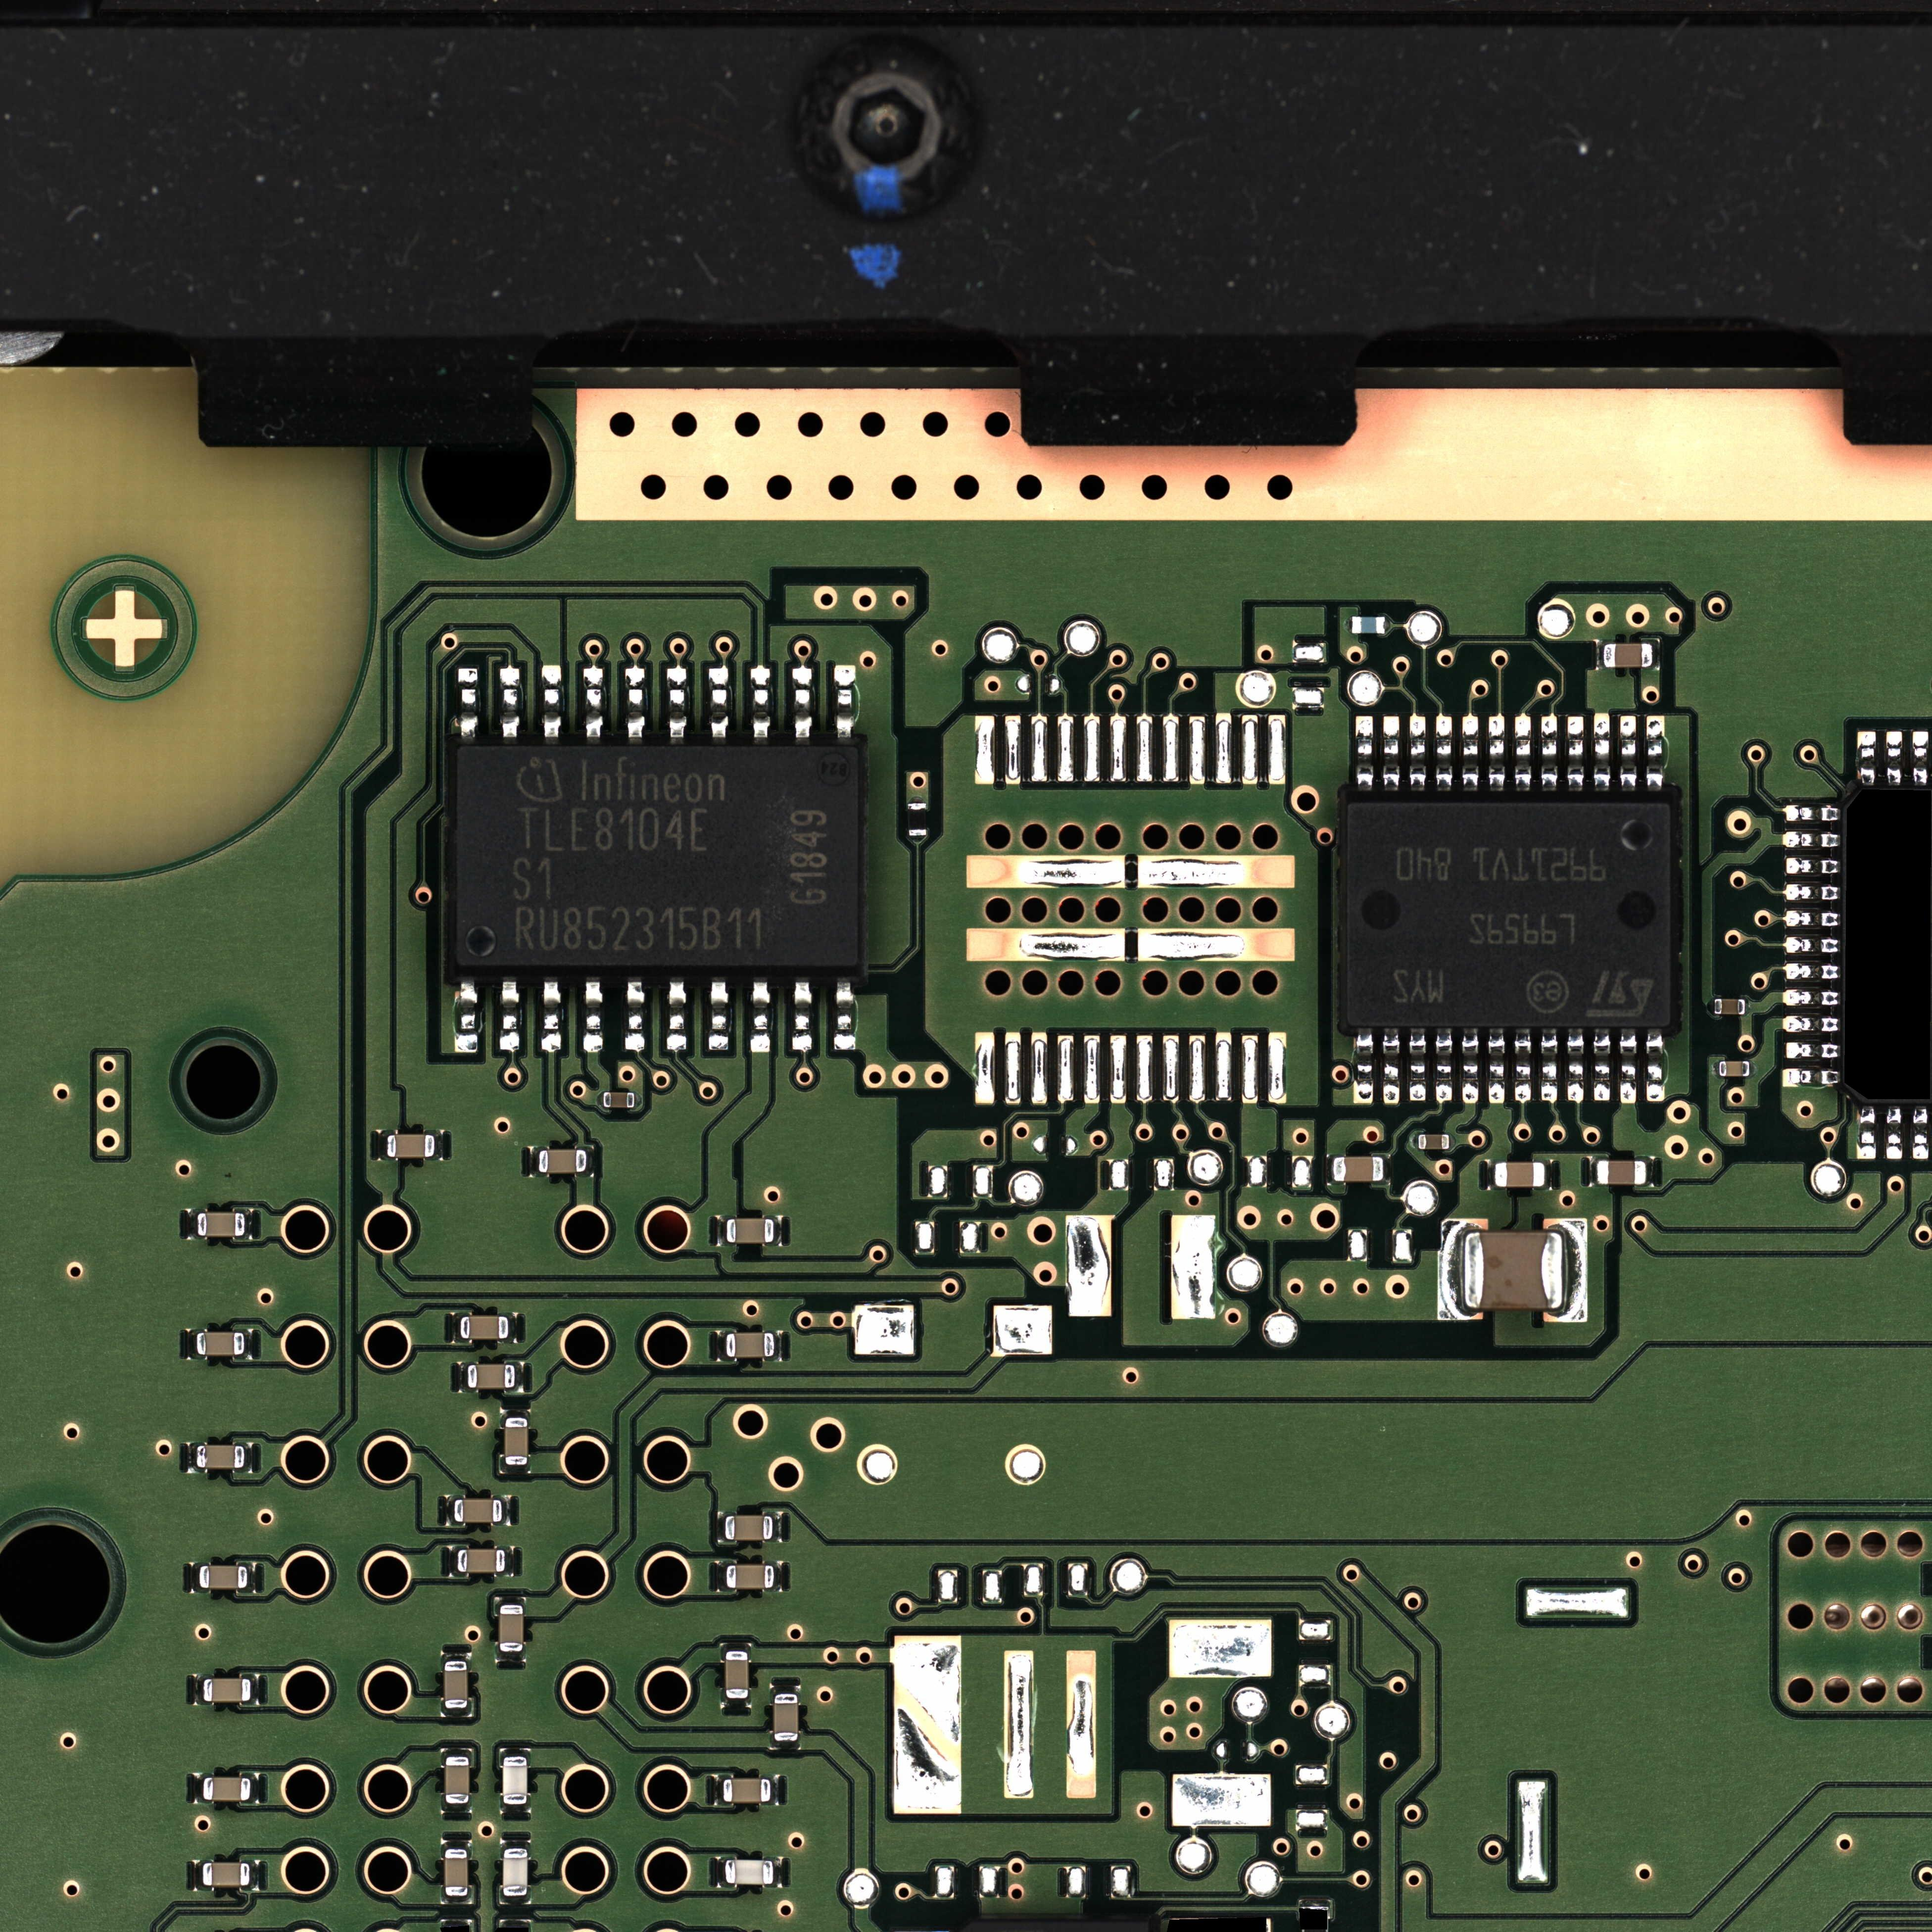Package: (455, 748, 860, 968), (1350, 801, 1670, 1026), (1463, 1231, 1564, 1309), (725, 1332, 775, 1359), (196, 1212, 246, 1237), (1334, 1157, 1384, 1182), (1495, 1162, 1545, 1187), (725, 1859, 773, 1884), (444, 1849, 469, 1897), (455, 1499, 502, 1523), (724, 1778, 771, 1803), (499, 1605, 524, 1652), (725, 1564, 773, 1589), (725, 1516, 773, 1541), (387, 1134, 435, 1159), (502, 1849, 527, 1897), (467, 1364, 515, 1389), (773, 1693, 798, 1741), (502, 1757, 527, 1805), (504, 1417, 529, 1465), (1598, 1161, 1645, 1185), (727, 1219, 773, 1244), (203, 1776, 249, 1801), (444, 1757, 469, 1803), (1603, 644, 1652, 667), (203, 1679, 251, 1702), (202, 1863, 249, 1886), (200, 1566, 248, 1589), (460, 1316, 508, 1339), (458, 1550, 506, 1573), (196, 1332, 244, 1355), (538, 1150, 586, 1173), (196, 1445, 244, 1468), (725, 1651, 748, 1698), (444, 1661, 467, 1707), (908, 803, 927, 837), (1352, 616, 1385, 633), (603, 1092, 633, 1108), (1714, 1000, 1744, 1016), (1419, 1134, 1449, 1150), (1720, 1062, 1750, 1076)
Solder: (1562, 1219, 1587, 1322), (1438, 1219, 1463, 1320), (455, 975, 478, 1053), (833, 975, 856, 1049), (835, 665, 856, 743), (791, 975, 812, 1051), (582, 977, 603, 1053), (750, 977, 771, 1053), (499, 667, 520, 741), (499, 977, 520, 1051), (625, 977, 646, 1051), (708, 977, 729, 1051), (752, 665, 771, 743), (667, 667, 686, 743), (584, 667, 603, 743), (541, 665, 561, 741), (541, 977, 561, 1053), (1353, 1028, 1373, 1104), (458, 669, 478, 743), (793, 667, 812, 741), (709, 667, 729, 741), (625, 667, 644, 741), (667, 978, 686, 1051), (1592, 713, 1610, 793), (1408, 713, 1426, 791), (1435, 713, 1453, 791), (1488, 713, 1506, 791), (1514, 713, 1532, 791), (1382, 715, 1399, 791), (1461, 715, 1479, 791), (1619, 715, 1637, 791), (1647, 715, 1665, 791), (1488, 1028, 1506, 1104), (1355, 717, 1373, 791), (1514, 1028, 1532, 1102), (1541, 1028, 1559, 1102), (1568, 1028, 1585, 1102), (1594, 1028, 1612, 1102), (1619, 1028, 1637, 1102), (1645, 1028, 1663, 1102), (1435, 1030, 1453, 1102), (1541, 713, 1557, 791), (1856, 729, 1877, 787), (1384, 1028, 1399, 1104), (1568, 715, 1583, 791), (1463, 1028, 1479, 1104), (1856, 1104, 1877, 1161), (1780, 909, 1840, 929), (1780, 934, 1840, 954), (1780, 1040, 1840, 1060), (1780, 1069, 1840, 1088), (1410, 1030, 1426, 1102), (1782, 803, 1840, 823), (1782, 830, 1840, 849), (1782, 856, 1840, 876), (1782, 883, 1840, 902), (1782, 961, 1840, 980), (1782, 987, 1840, 1007), (1780, 1016, 1838, 1035), (1882, 1106, 1904, 1159), (1911, 729, 1930, 786), (1911, 1106, 1930, 1161), (1886, 729, 1904, 786), (501, 1408, 531, 1419), (448, 1546, 458, 1576), (188, 1442, 196, 1474), (441, 1805, 472, 1813), (195, 1674, 203, 1706), (441, 1748, 472, 1757), (191, 1562, 200, 1594), (195, 1773, 203, 1805), (494, 1596, 525, 1605), (499, 1897, 531, 1905), (499, 1748, 531, 1757), (499, 1465, 531, 1474), (717, 1330, 725, 1362), (717, 1511, 725, 1543), (770, 1684, 801, 1693), (770, 1741, 801, 1750), (717, 1560, 725, 1592), (773, 1511, 782, 1543), (720, 1642, 752, 1651), (717, 1856, 725, 1888), (1652, 639, 1661, 671), (1486, 1159, 1495, 1191), (379, 1131, 387, 1161), (188, 1329, 196, 1359), (451, 1313, 460, 1343), (458, 1362, 467, 1392), (442, 1709, 472, 1718), (446, 1495, 455, 1525), (441, 1840, 471, 1849), (441, 1652, 471, 1661), (249, 1859, 258, 1890), (495, 1652, 525, 1661), (501, 1840, 531, 1849), (501, 1805, 531, 1813), (717, 1215, 725, 1246), (773, 1215, 782, 1246), (515, 1362, 524, 1392), (722, 1698, 752, 1707), (773, 1858, 782, 1888), (506, 1546, 515, 1576), (1645, 1157, 1654, 1187), (501, 1920, 531, 1928), (1299, 1900, 1334, 1907), (441, 1897, 474, 1904), (441, 1920, 474, 1927), (189, 1208, 196, 1240), (244, 1442, 251, 1474), (195, 1859, 202, 1891), (502, 1495, 510, 1527), (771, 1775, 778, 1806), (1327, 1154, 1334, 1185), (1545, 1159, 1552, 1191), (1589, 1155, 1596, 1187), (435, 1131, 442, 1161), (244, 1208, 251, 1238), (244, 1329, 251, 1359), (248, 1562, 255, 1592), (251, 1773, 258, 1803), (251, 1674, 258, 1704), (587, 1146, 594, 1177), (531, 1146, 538, 1177), (510, 1313, 517, 1343), (775, 1330, 782, 1361), (715, 1775, 722, 1805), (775, 1562, 782, 1592), (1384, 1155, 1391, 1185), (1596, 640, 1603, 671), (633, 1092, 642, 1109), (908, 796, 927, 803), (908, 835, 927, 842), (1345, 616, 1352, 633), (1713, 1060, 1720, 1077), (596, 1092, 603, 1108), (1412, 1134, 1419, 1150), (1449, 1134, 1456, 1150), (1744, 1000, 1752, 1016), (1707, 1000, 1714, 1016), (1750, 1062, 1757, 1077), (1385, 616, 1391, 633)
